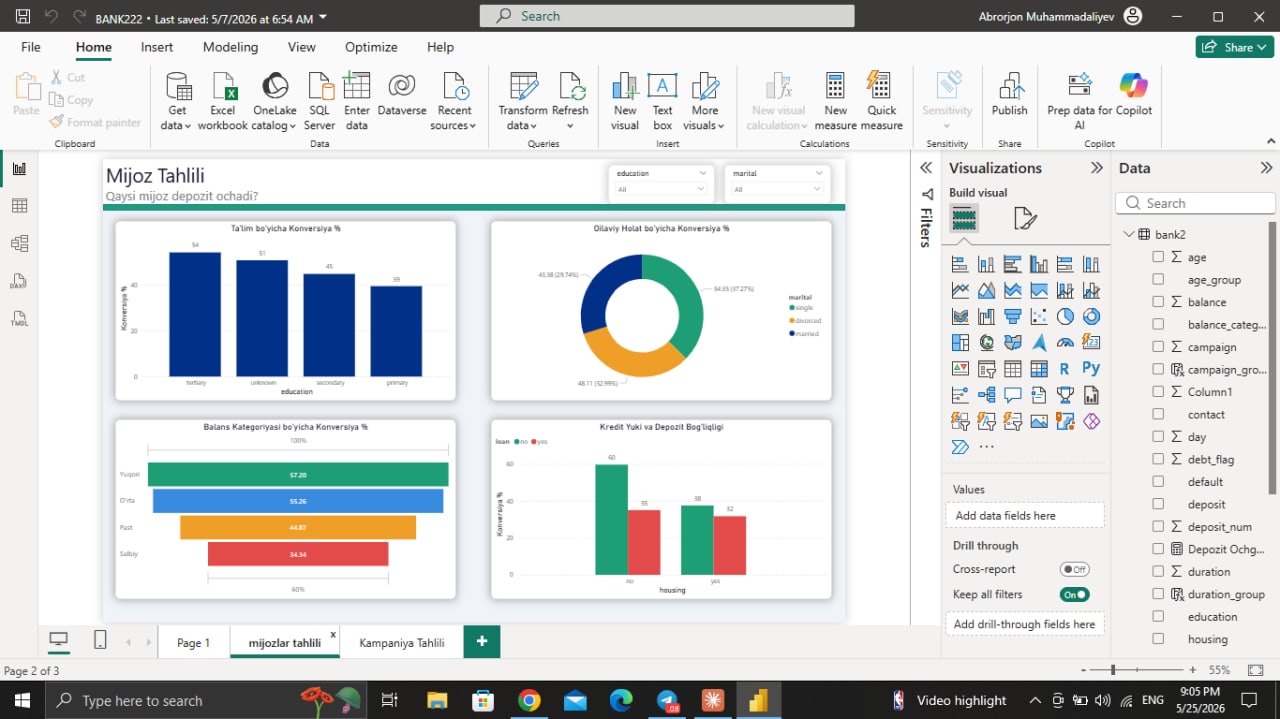

What the dashboard file says about the page in this screenshot:
{"tool":"powerbi","page":{"name":"mijozlar tahlili","canvas":[1440,900],"ordinal":1},"visuals":[{"type":"textbox","box":[0,0,1440,99],"z":1},{"type":"shape","box":[0,86.4,1440,12.6],"z":2},{"type":"clusteredColumnChart","title":"Ta''lim bo''yicha Konversiya %","fields":{"Category":["bank2.education"],"Y":["bank2.Konversiya %"]},"box":[23.4,120.6,660.6,349.2],"z":3},{"type":"donutChart","title":"Oilaviy Holat bo''yicha Konversiya %","fields":{"Category":["bank2.marital"],"Y":["bank2.Konversiya %"]},"box":[752.4,120.6,660.6,349.2],"z":4},{"type":"funnel","title":" Balans Kategoriyasi bo''yicha Konversiya %","fields":{"Category":["bank2.balance_category"],"Y":["bank2.Konversiya %"]},"box":[23.4,505.8,660.6,349.2],"z":6},{"type":"clusteredColumnChart","title":"Kredit Yuki va Depozit Bog''liqligi","fields":{"Y":["bank2.Konversiya %"],"Category":["bank2.housing"],"Series":["bank2.loan"]},"box":[752.4,505.8,660.6,349.2],"z":7},{"type":"slicer","fields":{"Values":["bank2.education"]},"box":[979.2,10.8,207,75.6],"z":8},{"type":"slicer","fields":{"Values":["bank2.marital"]},"box":[1206,10.8,207,75.6],"z":9}]}

Visuals, with their boxes on the page's 1440x900 design canvas (x1, y1, x2, y2). These are canvas units, not pixel positions in the 1280x719 screenshot, which may show the page scaled, cropped or inside an application window:
textbox: {"x1": 0, "y1": 0, "x2": 1440, "y2": 99}
shape: {"x1": 0, "y1": 86, "x2": 1440, "y2": 99}
"Ta''lim bo''yicha Konversiya %" clusteredColumnChart: {"x1": 23, "y1": 121, "x2": 684, "y2": 470}
"Oilaviy Holat bo''yicha Konversiya %" donutChart: {"x1": 752, "y1": 121, "x2": 1413, "y2": 470}
" Balans Kategoriyasi bo''yicha Konversiya %" funnel: {"x1": 23, "y1": 506, "x2": 684, "y2": 855}
"Kredit Yuki va Depozit Bog''liqligi" clusteredColumnChart: {"x1": 752, "y1": 506, "x2": 1413, "y2": 855}
slicer - bank2.education: {"x1": 979, "y1": 11, "x2": 1186, "y2": 86}
slicer - bank2.marital: {"x1": 1206, "y1": 11, "x2": 1413, "y2": 86}
